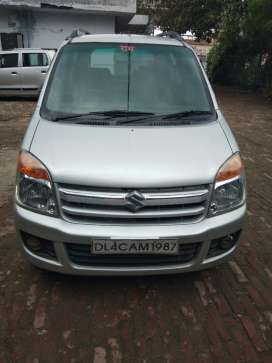license_plate: (92, 238, 179, 253)
